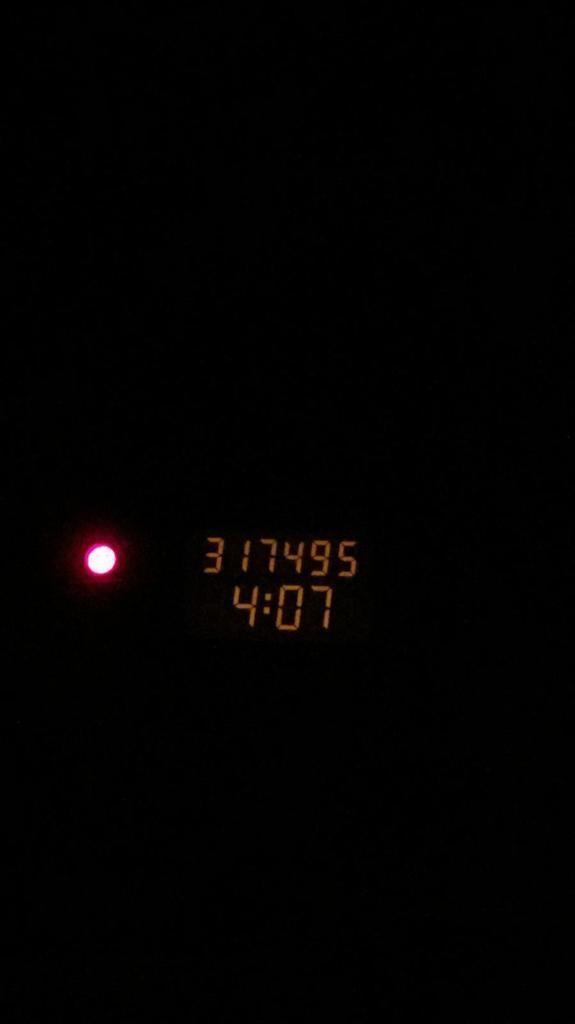0: (275, 583, 303, 631)
1: (238, 538, 251, 572)
3: (201, 536, 225, 575)
4: (230, 583, 259, 628), (281, 540, 306, 574)
5: (336, 539, 358, 577)
7: (308, 582, 335, 631), (258, 536, 279, 573)
9: (308, 538, 331, 577)
X: (262, 591, 272, 614)
odometer: (174, 524, 376, 639)
